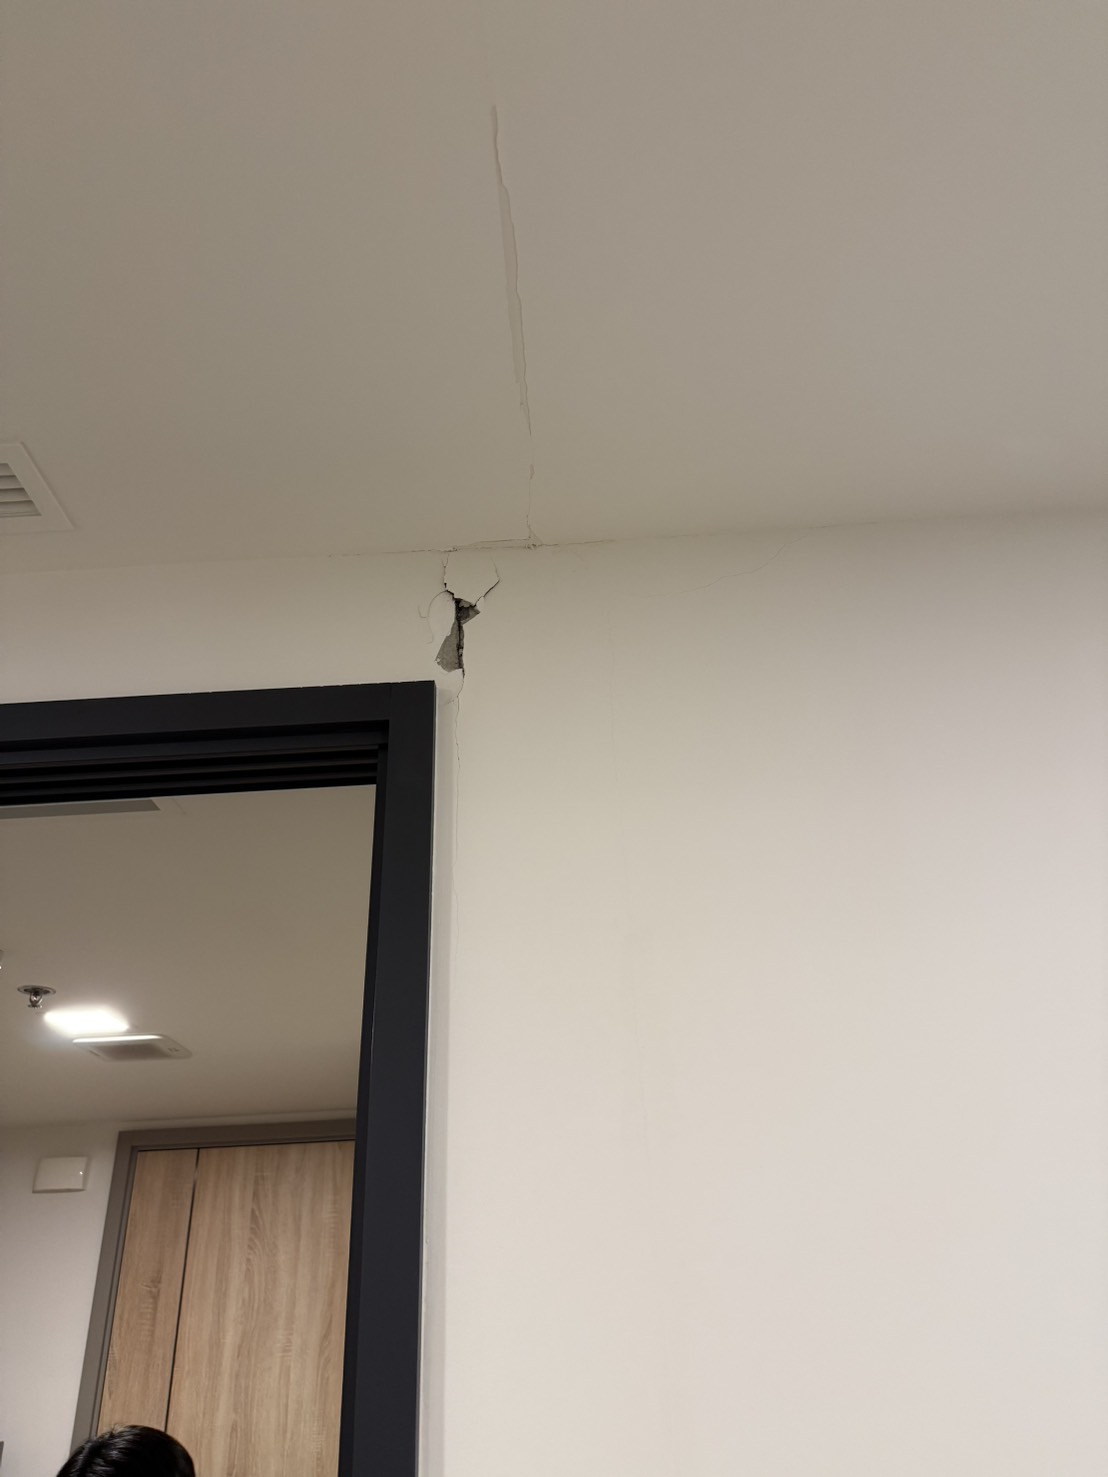Medium: (425, 559, 502, 679)
